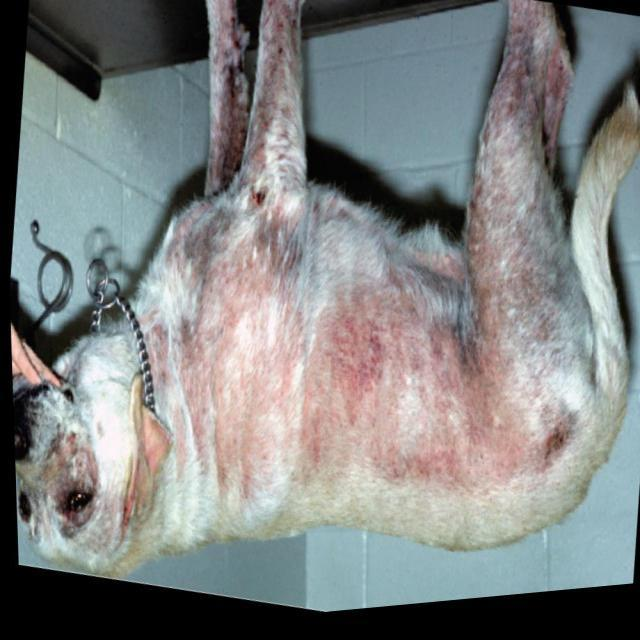mange: (368, 347, 530, 490), (204, 284, 310, 490), (312, 300, 390, 410), (467, 205, 524, 348), (218, 214, 296, 298), (267, 0, 293, 165), (218, 26, 243, 172)
